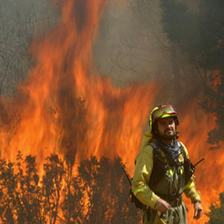fire: (8, 17, 139, 223)
